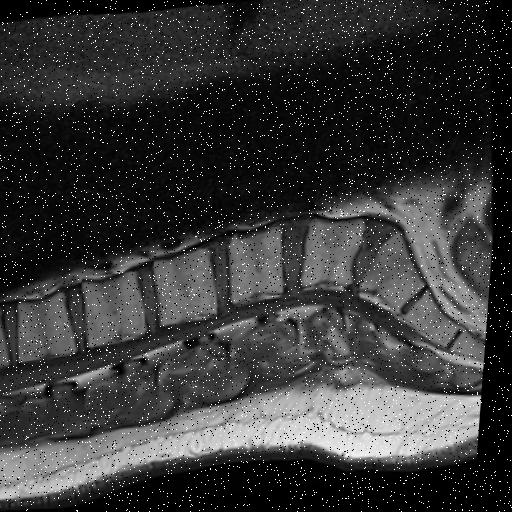L1: (24, 292, 80, 361)
L2: (87, 272, 150, 347)
L3: (158, 249, 222, 326)
L4: (233, 231, 287, 302)
L5: (307, 222, 366, 287)
S1: (366, 234, 427, 311)
